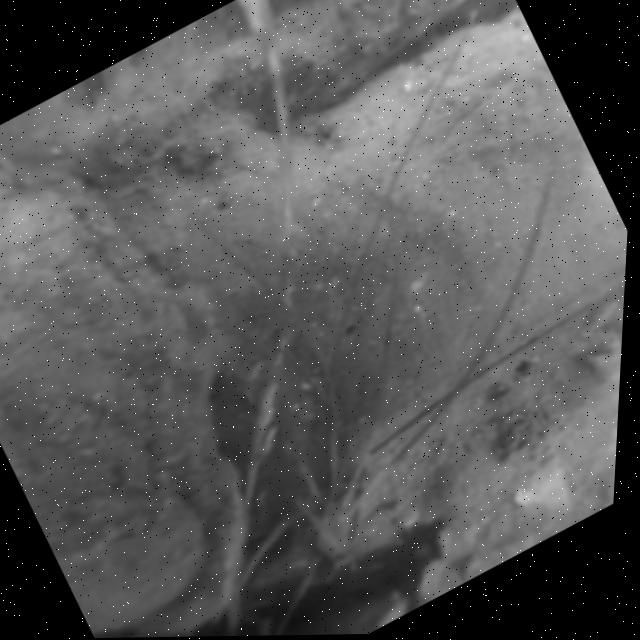Oyster-Closed: (0, 161, 247, 637)
Oyster-Indeterminate: (387, 282, 625, 610), (0, 0, 279, 185), (268, 0, 463, 116)
